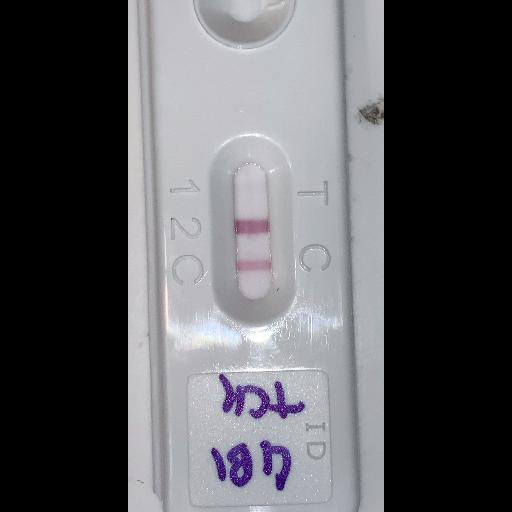Pos: (142, 0, 358, 510)
